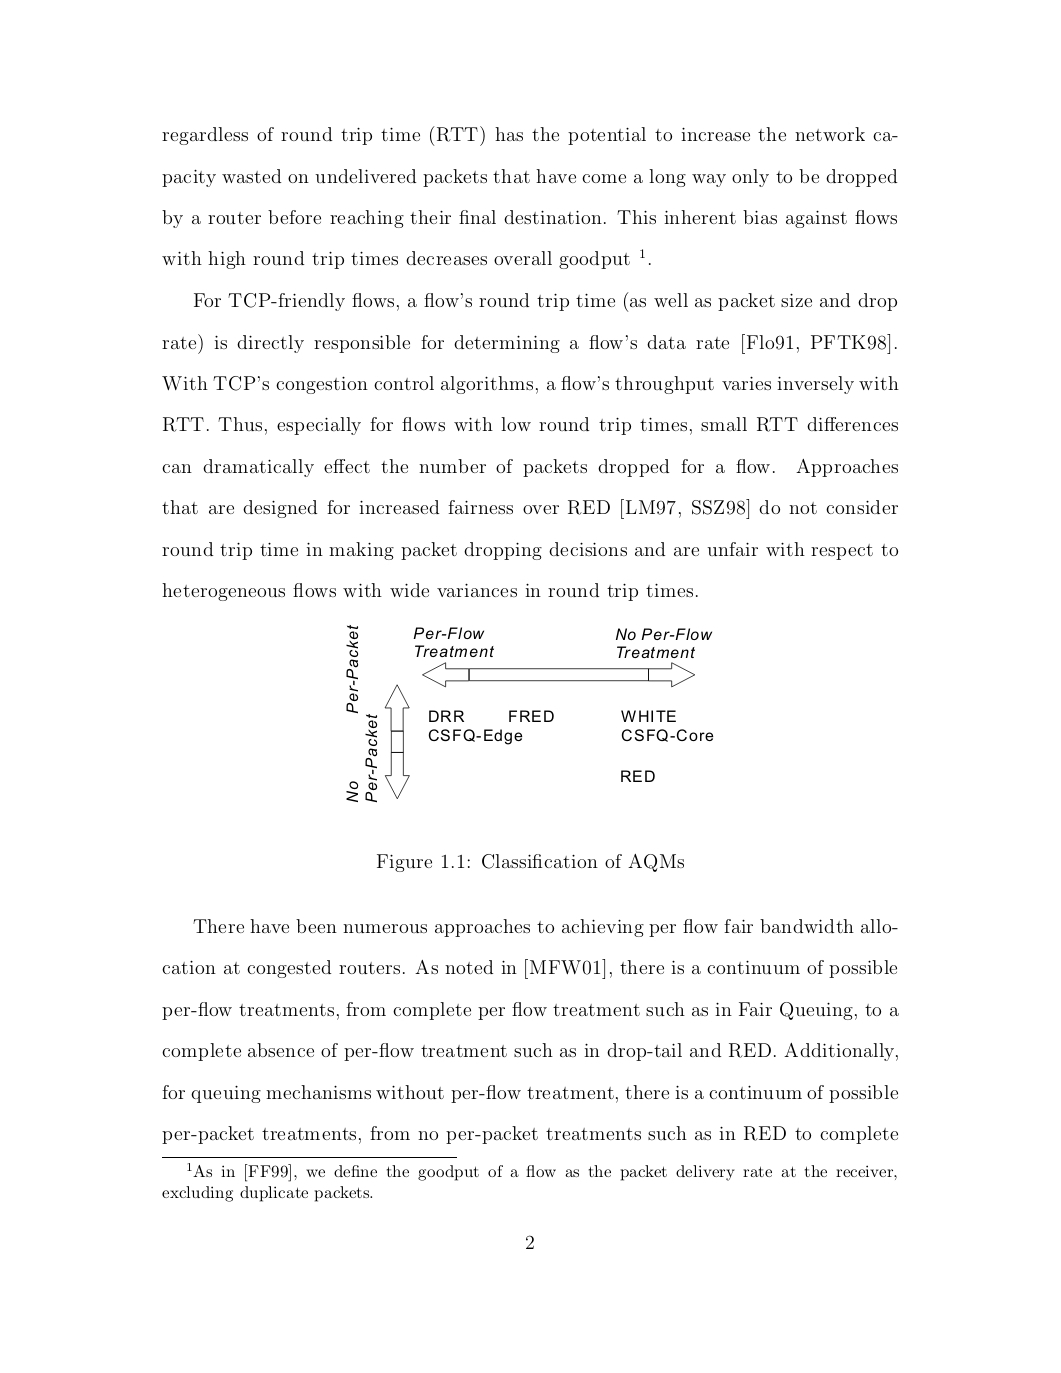figure: (345, 624, 713, 804)
